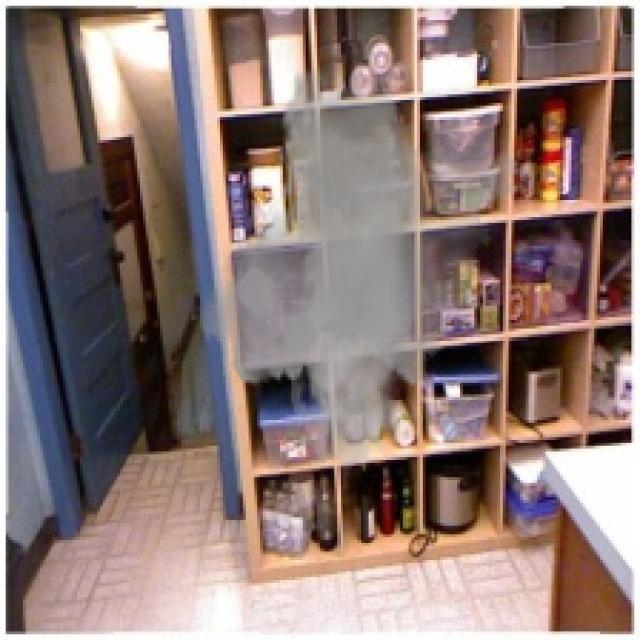Smoke: (188, 66, 532, 468)
